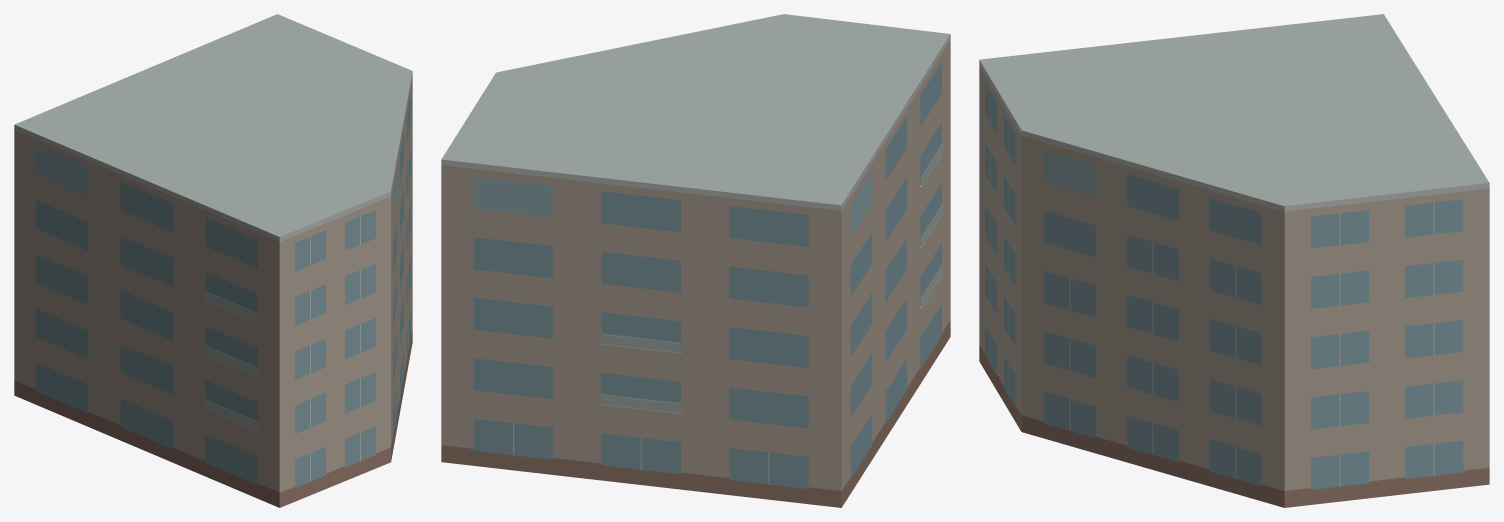
The model's file is survey-upis-32715178.glb.
The picture shows the model from 3 angles, left to right: view 1: azimuth 30°, elevation 25°; view 2: azimuth 150°, elevation 25°; view 3: azimuth 270°, elevation 25°; orthographic projection. The views are drawn at different scales.
Visible parts, largest first — view 1: survey-upis-32715178.tmp; view 2: survey-upis-32715178.tmp; view 3: survey-upis-32715178.tmp.
Boxes of the visible parts, left/top/right/bottom form: survey-upis-32715178.tmp: left=14, top=14, right=412, bottom=507; survey-upis-32715178.tmp: left=441, top=14, right=950, bottom=507; survey-upis-32715178.tmp: left=979, top=14, right=1489, bottom=507.
Bounding box in the file's own units: 18.05 × 13.2 × 20.25.
